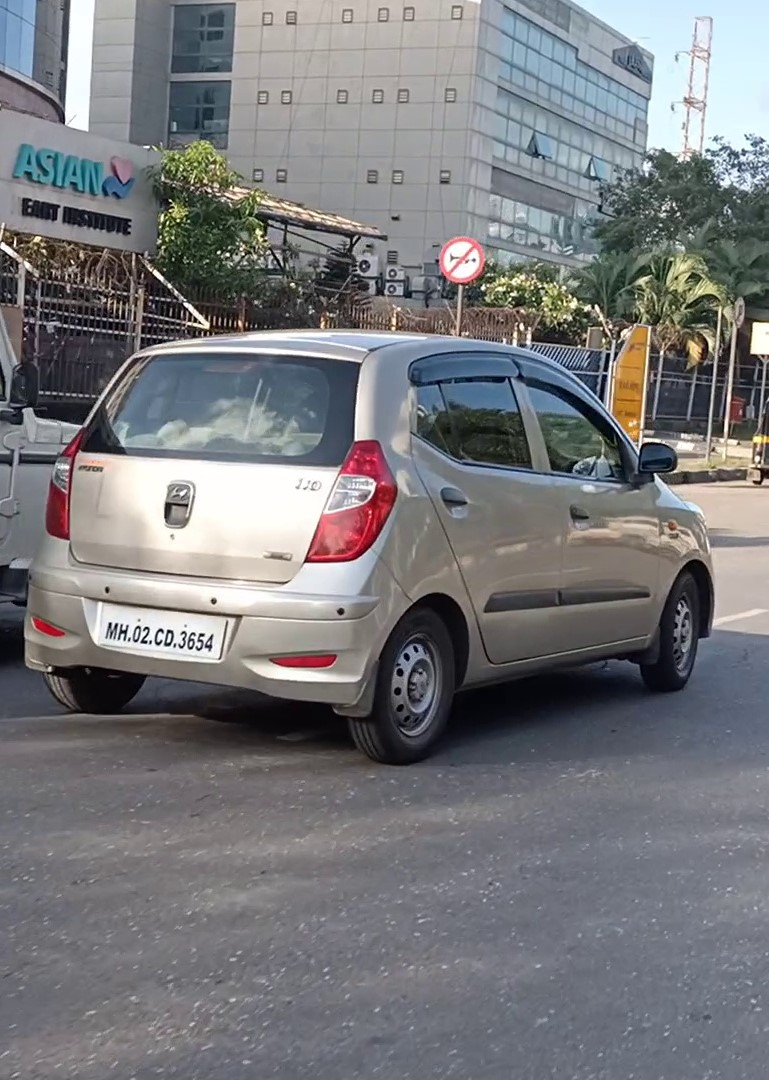MH02CD3654: (96, 600, 225, 663)
